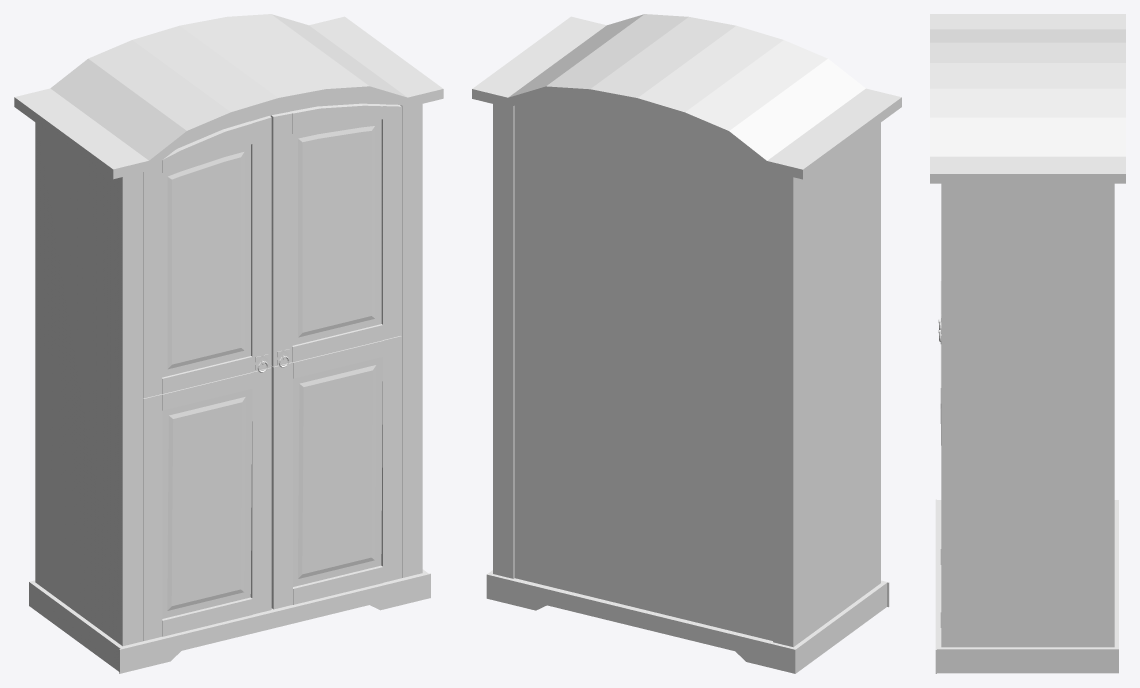
The model's file is Prop_Wardrobe_02.glb.
The picture shows the model from 3 angles, left to right: view 1: azimuth 30°, elevation 25°; view 2: azimuth 150°, elevation 25°; view 3: azimuth 270°, elevation 25°; orthographic projection.
Visible parts, largest first — view 1: Prop_Wardrobe_02, Prop_Wardrobe_Right_02, Prop_Wardrobe_Left_02; view 2: Prop_Wardrobe_02; view 3: Prop_Wardrobe_02, Prop_Wardrobe_Right_02.
Boxes of the visible parts, x1,y1,x2,y2 form: Prop_Wardrobe_02: (14, 14, 443, 673); Prop_Wardrobe_Right_02: (271, 103, 401, 609); Prop_Wardrobe_Left_02: (143, 116, 271, 641); Prop_Wardrobe_02: (472, 14, 901, 673); Prop_Wardrobe_02: (930, 14, 1125, 673); Prop_Wardrobe_Right_02: (938, 322, 941, 627).
Size of the model in its own units: 1.15 by 1.8 by 0.5973.
1 material, 1 textured.
